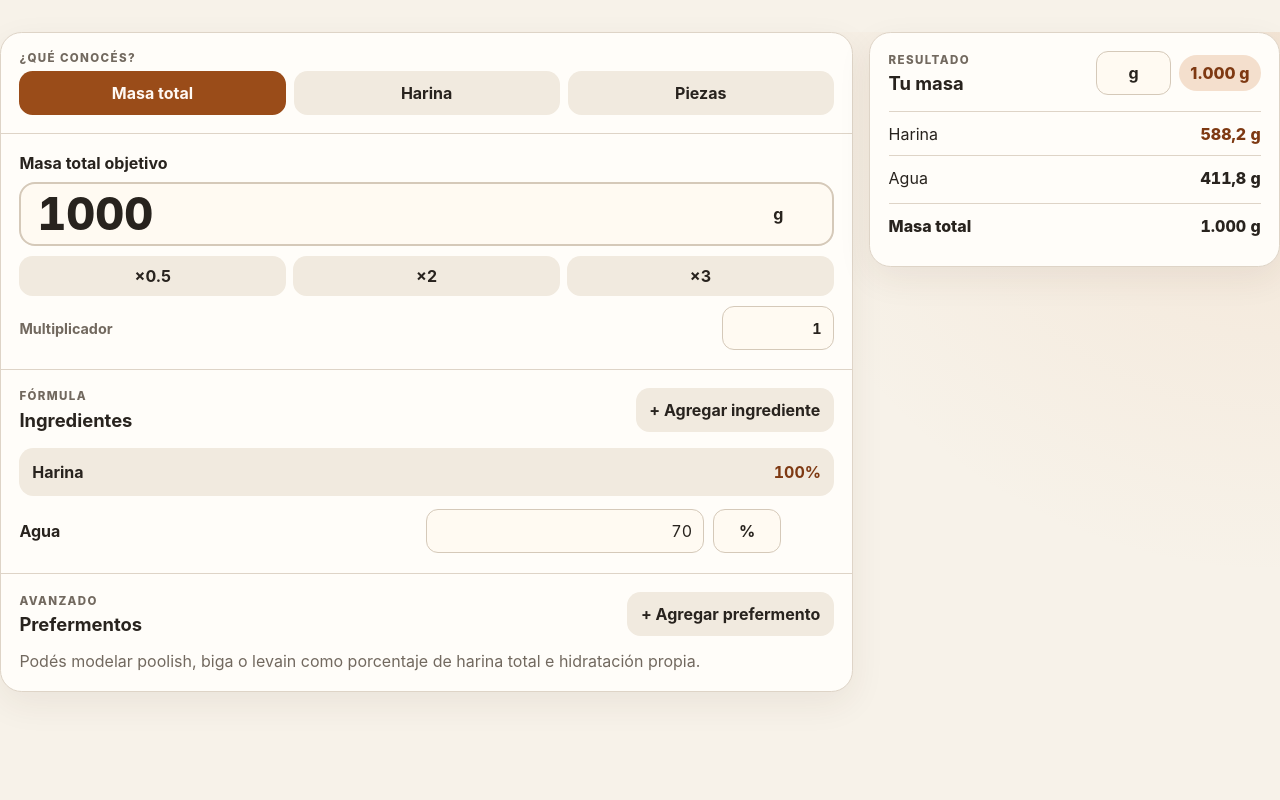
CalculatorPanel › adds a custom ingredient that can be renamed, switched to grams, and removed
Click the button "+ Agregar ingrediente".
click(735, 410)  # box [636,388,834,432]
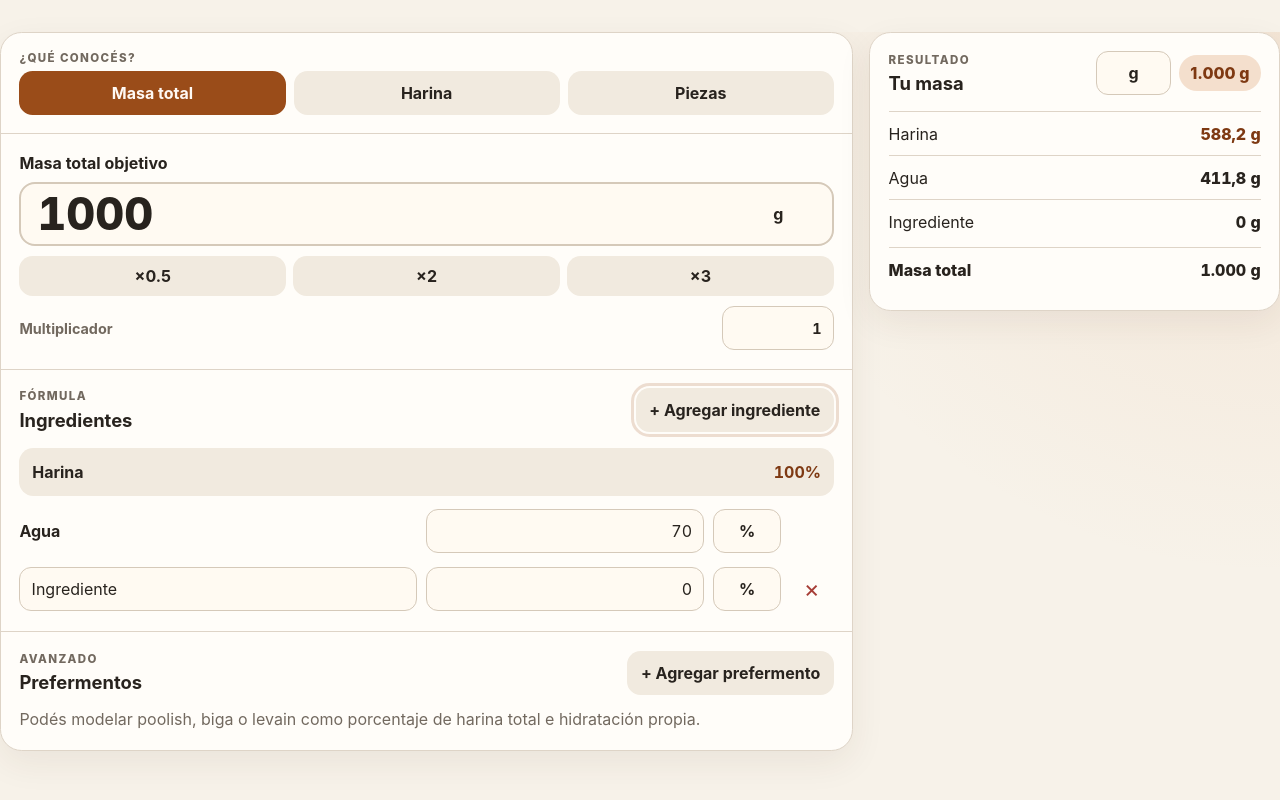
Replace the text in the field named "Nombre del ingrediente" with "Aceite" at x=218, y=589, box [19,567,417,611]
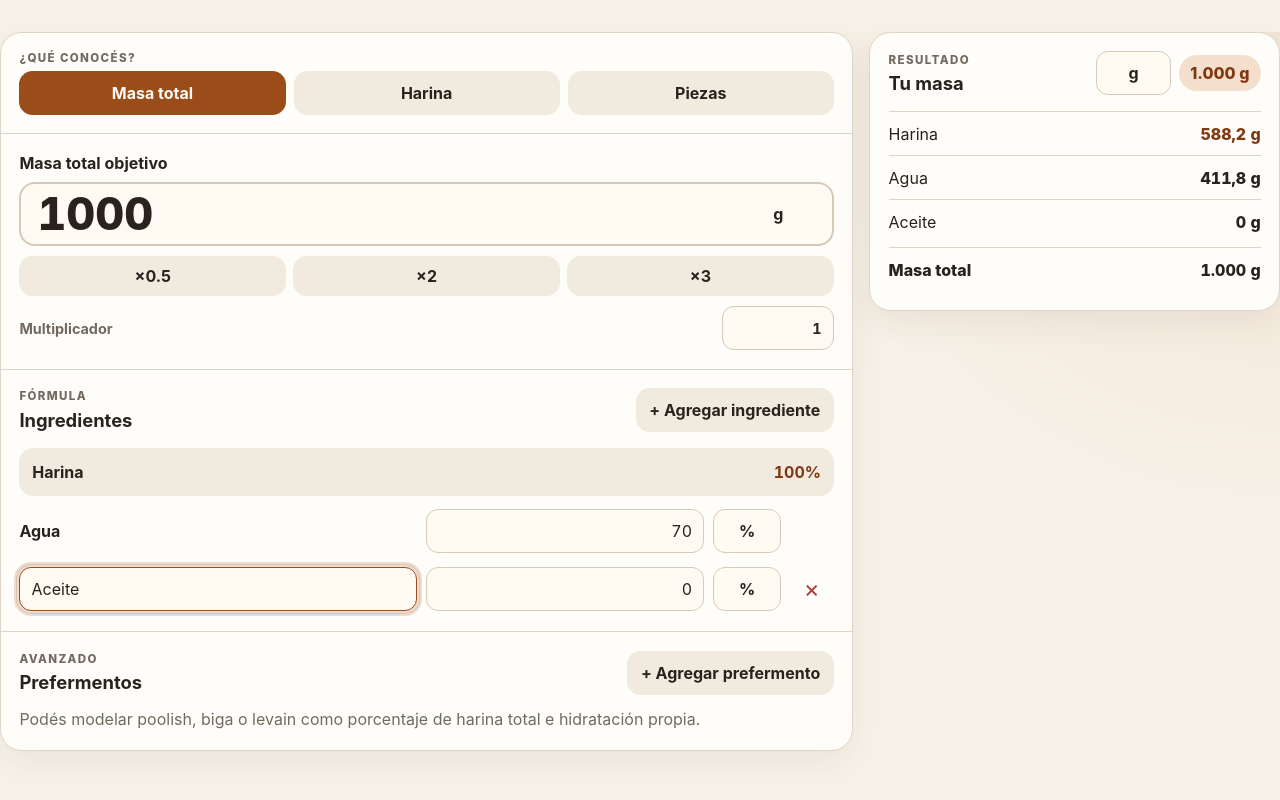
Replace the text in the field named "Cantidad de Aceite" with "15" at x=565, y=589, box [426,567,704,611]
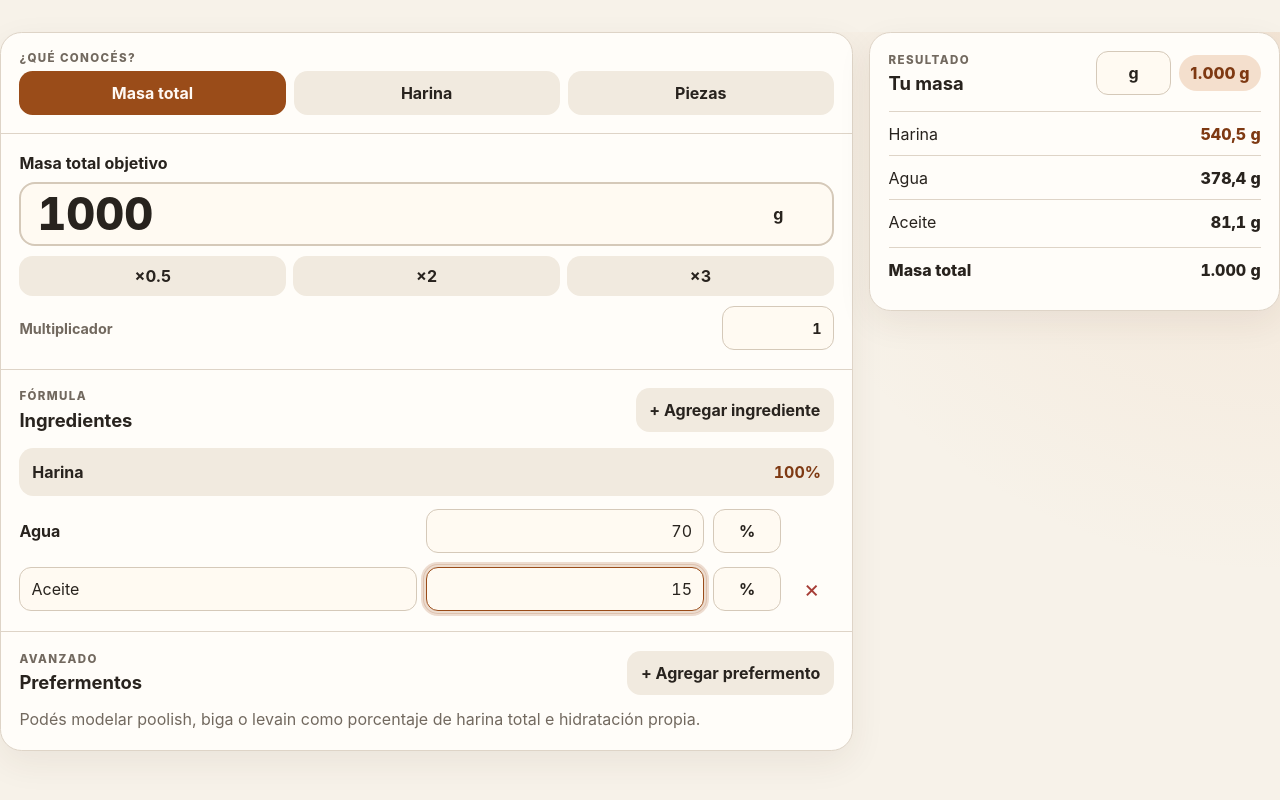
Select "g" in the dropdown named "Unidad de Aceite" at x=747, y=589, box [713,567,781,611]
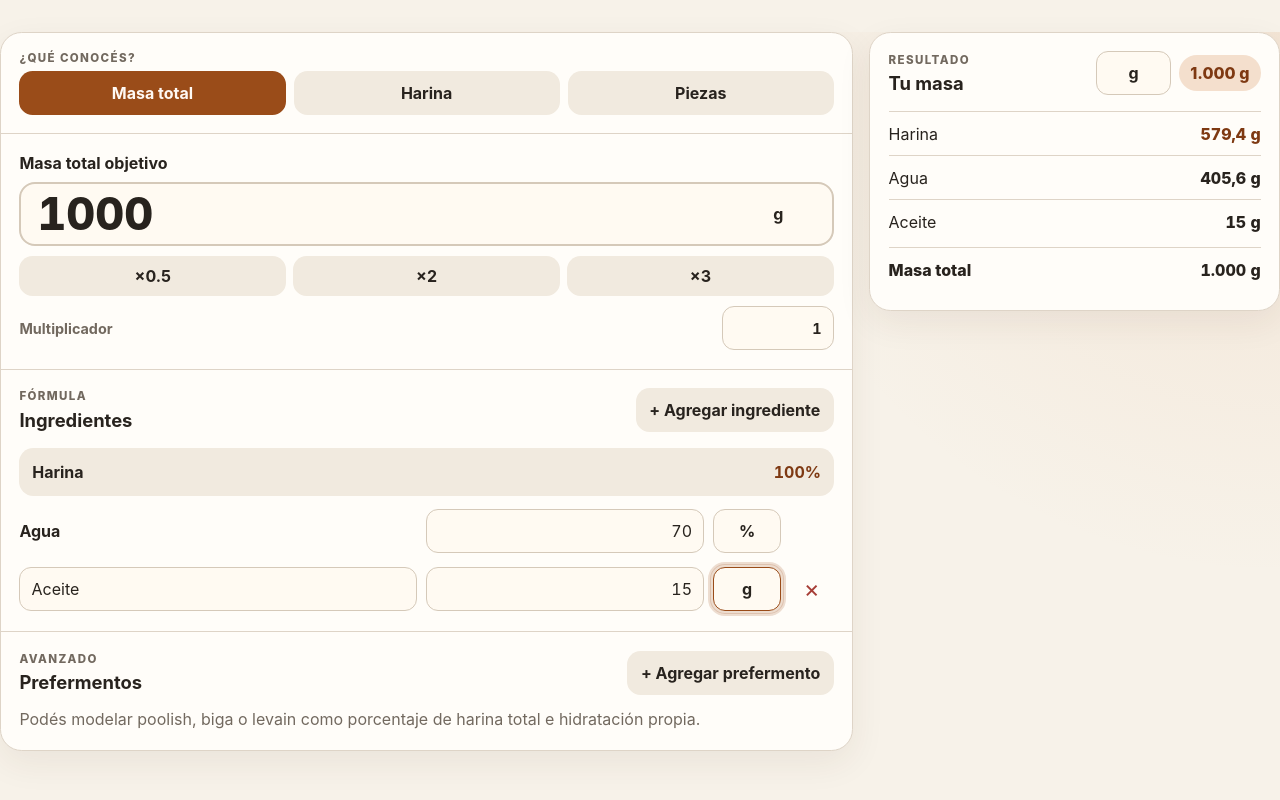
Check: the element "Resultado" shows "15 g", box [1225,212,1261,232]
Click the button named "Eliminar Aceite".
click(812, 589)  # box [790,567,834,611]
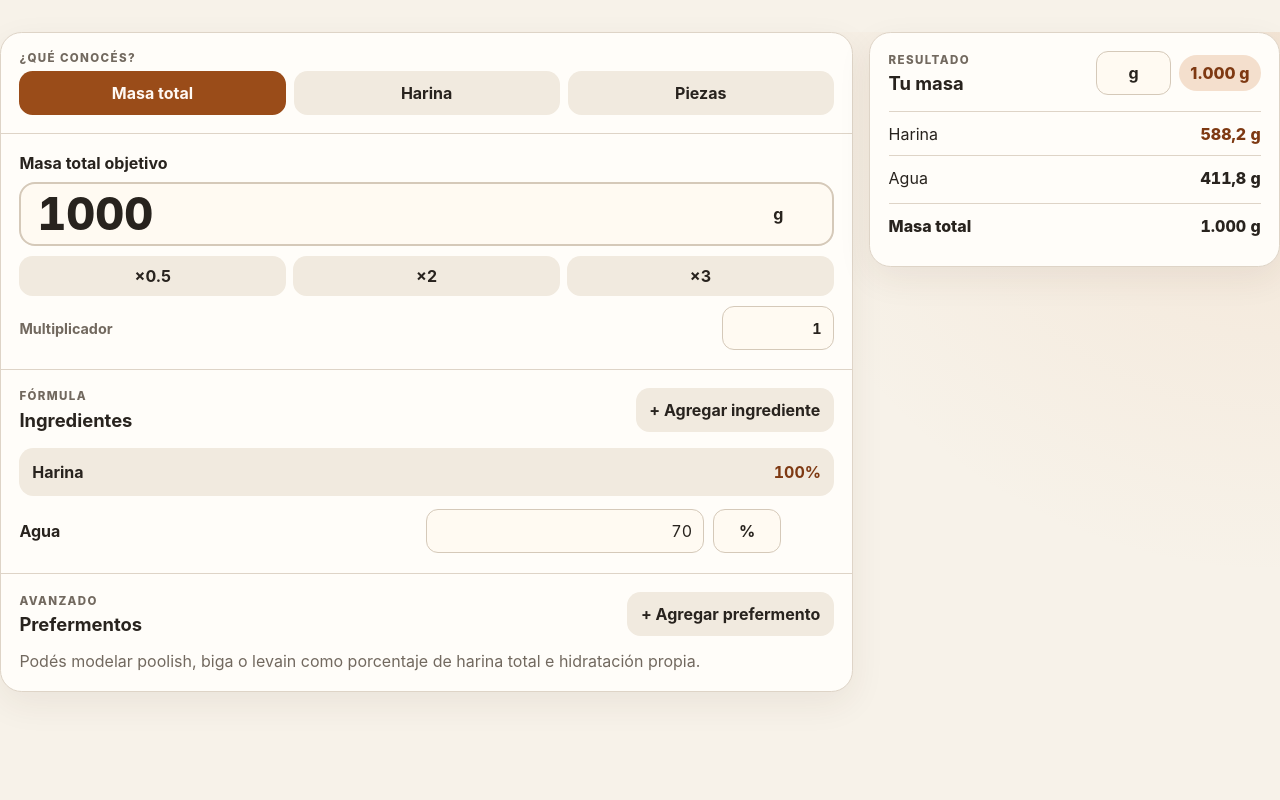
Check: the element with test id "ingredient-custom" is gone
